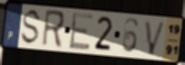2: (93, 15, 115, 53)
6: (121, 17, 141, 56)
E: (68, 11, 95, 52)
R: (40, 8, 66, 50)
S: (19, 8, 43, 47)
V: (144, 19, 168, 58)
